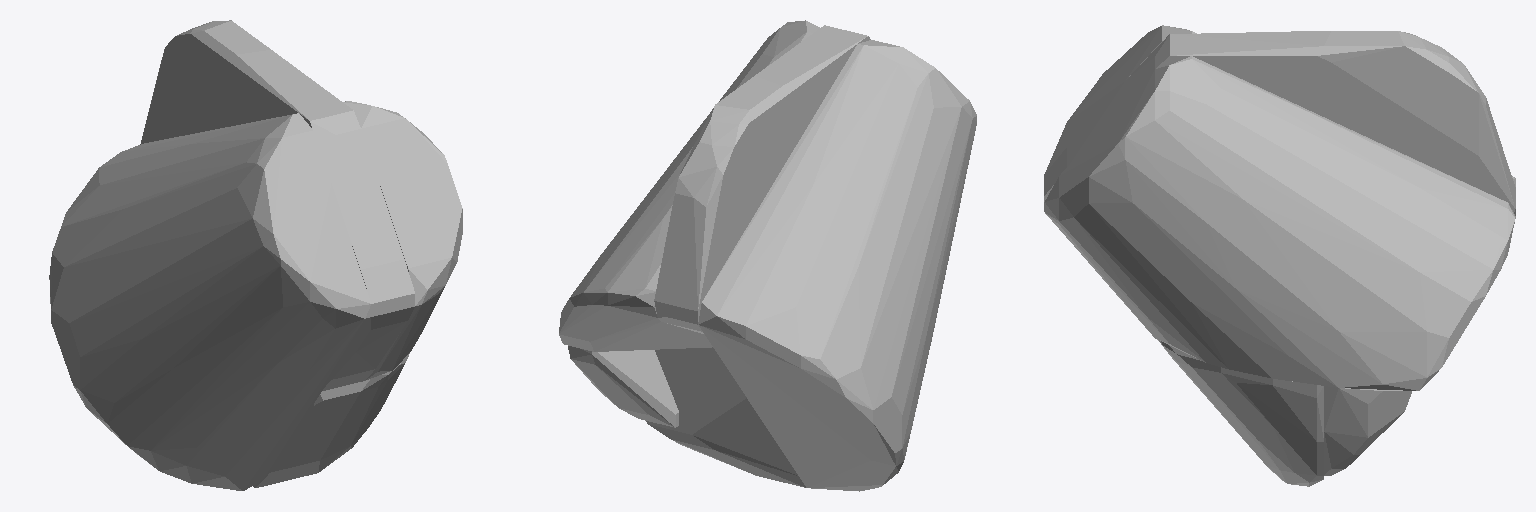
robot.urdf — root:
<robot name="root">
  <link name="link_542235fc88d22e1e3406473757712946_convex_piece_0">
    <inertial>
      <origin rpy="0 0 0" xyz="0 0 0"/>
      <mass value="6.99E-06"/>
      <inertia ixx="1.07E-09" ixy="-7.78E-11" ixz="3.03E-11" iyy="1.06E-09" iyz="-1.24E-10" izz="1.15E-09"/>
    </inertial>
    <visual>
      <origin rpy="0 0 0" xyz="0 0 0"/>
      <geometry>
        <mesh filename="542235fc88d22e1e3406473757712946_convex_piece_0.obj" scale="1.0000E+00"/>
      </geometry>
      <material name="">
        <color rgba="7.50E-01 7.50E-01 7.50E-01 1"/>
      </material>
    </visual>
    <collision>
      <origin rpy="0 0 0" xyz="0 0 0"/>
      <geometry>
        <mesh filename="542235fc88d22e1e3406473757712946_convex_piece_0.obj" scale="1.0000E+00"/>
      </geometry>
    </collision>
  </link>
  <link name="link_542235fc88d22e1e3406473757712946_convex_piece_1">
    <inertial>
      <origin rpy="0 0 0" xyz="0 0 0"/>
      <mass value="1.58E-06"/>
      <inertia ixx="2.86E-10" ixy="-3.27E-12" ixz="-9.19E-11" iyy="3.39E-10" iyz="3.16E-11" izz="8.88E-11"/>
    </inertial>
    <visual>
      <origin rpy="0 0 0" xyz="0 0 0"/>
      <geometry>
        <mesh filename="542235fc88d22e1e3406473757712946_convex_piece_1.obj" scale="1.0000E+00"/>
      </geometry>
      <material name="">
        <color rgba="7.50E-01 7.50E-01 7.50E-01 1"/>
      </material>
    </visual>
    <collision>
      <origin rpy="0 0 0" xyz="0 0 0"/>
      <geometry>
        <mesh filename="542235fc88d22e1e3406473757712946_convex_piece_1.obj" scale="1.0000E+00"/>
      </geometry>
    </collision>
  </link>
  <joint name="link_542235fc88d22e1e3406473757712946_convex_piece_1_joint" type="fixed">
    <origin rpy="0 0 0" xyz="0 0 0"/>
    <parent link="link_542235fc88d22e1e3406473757712946_convex_piece_0"/>
    <child link="link_542235fc88d22e1e3406473757712946_convex_piece_1"/>
  </joint>
  <link name="link_542235fc88d22e1e3406473757712946_convex_piece_2">
    <inertial>
      <origin rpy="0 0 0" xyz="0 0 0"/>
      <mass value="1.66E-07"/>
      <inertia ixx="3.04E-11" ixy="1.86E-11" ixz="-2.79E-11" iyy="5.92E-11" iyz="-1.25E-11" izz="4.66E-11"/>
    </inertial>
    <visual>
      <origin rpy="0 0 0" xyz="0 0 0"/>
      <geometry>
        <mesh filename="542235fc88d22e1e3406473757712946_convex_piece_2.obj" scale="1.0000E+00"/>
      </geometry>
      <material name="">
        <color rgba="7.50E-01 7.50E-01 7.50E-01 1"/>
      </material>
    </visual>
    <collision>
      <origin rpy="0 0 0" xyz="0 0 0"/>
      <geometry>
        <mesh filename="542235fc88d22e1e3406473757712946_convex_piece_2.obj" scale="1.0000E+00"/>
      </geometry>
    </collision>
  </link>
  <joint name="link_542235fc88d22e1e3406473757712946_convex_piece_2_joint" type="fixed">
    <origin rpy="0 0 0" xyz="0 0 0"/>
    <parent link="link_542235fc88d22e1e3406473757712946_convex_piece_1"/>
    <child link="link_542235fc88d22e1e3406473757712946_convex_piece_2"/>
  </joint>
  <link name="link_542235fc88d22e1e3406473757712946_convex_piece_3">
    <inertial>
      <origin rpy="0 0 0" xyz="0 0 0"/>
      <mass value="3.49E-06"/>
      <inertia ixx="8.03E-10" ixy="-2.13E-12" ixz="-8.82E-12" iyy="3.97E-10" iyz="6.60E-11" izz="4.22E-10"/>
    </inertial>
    <visual>
      <origin rpy="0 0 0" xyz="0 0 0"/>
      <geometry>
        <mesh filename="542235fc88d22e1e3406473757712946_convex_piece_3.obj" scale="1.0000E+00"/>
      </geometry>
      <material name="">
        <color rgba="7.50E-01 7.50E-01 7.50E-01 1"/>
      </material>
    </visual>
    <collision>
      <origin rpy="0 0 0" xyz="0 0 0"/>
      <geometry>
        <mesh filename="542235fc88d22e1e3406473757712946_convex_piece_3.obj" scale="1.0000E+00"/>
      </geometry>
    </collision>
  </link>
  <joint name="link_542235fc88d22e1e3406473757712946_convex_piece_3_joint" type="fixed">
    <origin rpy="0 0 0" xyz="0 0 0"/>
    <parent link="link_542235fc88d22e1e3406473757712946_convex_piece_2"/>
    <child link="link_542235fc88d22e1e3406473757712946_convex_piece_3"/>
  </joint>
  <link name="link_542235fc88d22e1e3406473757712946_convex_piece_4">
    <inertial>
      <origin rpy="0 0 0" xyz="0 0 0"/>
      <mass value="5.54E-06"/>
      <inertia ixx="8.08E-10" ixy="2.68E-11" ixz="1.34E-10" iyy="6.68E-10" iyz="-8.40E-11" izz="9.37E-10"/>
    </inertial>
    <visual>
      <origin rpy="0 0 0" xyz="0 0 0"/>
      <geometry>
        <mesh filename="542235fc88d22e1e3406473757712946_convex_piece_4.obj" scale="1.0000E+00"/>
      </geometry>
      <material name="">
        <color rgba="7.50E-01 7.50E-01 7.50E-01 1"/>
      </material>
    </visual>
    <collision>
      <origin rpy="0 0 0" xyz="0 0 0"/>
      <geometry>
        <mesh filename="542235fc88d22e1e3406473757712946_convex_piece_4.obj" scale="1.0000E+00"/>
      </geometry>
    </collision>
  </link>
  <joint name="link_542235fc88d22e1e3406473757712946_convex_piece_4_joint" type="fixed">
    <origin rpy="0 0 0" xyz="0 0 0"/>
    <parent link="link_542235fc88d22e1e3406473757712946_convex_piece_3"/>
    <child link="link_542235fc88d22e1e3406473757712946_convex_piece_4"/>
  </joint>
</robot>

--- Facts derived from the render (not from the file) ---
The picture shows the robot from 3 angles, left to right: view 1: azimuth 30°, elevation 25°; view 2: azimuth 150°, elevation 25°; view 3: azimuth 270°, elevation 25°; orthographic projection.
Model root with 5 links and 4 joints (4 fixed), rooted at link_542235fc88d22e1e3406473757712946_convex_piece_0, posed every joint at zero.
Visible links, largest first — view 1: link_542235fc88d22e1e3406473757712946_convex_piece_0, link_542235fc88d22e1e3406473757712946_convex_piece_3, link_542235fc88d22e1e3406473757712946_convex_piece_4, link_542235fc88d22e1e3406473757712946_convex_piece_1; view 2: link_542235fc88d22e1e3406473757712946_convex_piece_0, link_542235fc88d22e1e3406473757712946_convex_piece_3, link_542235fc88d22e1e3406473757712946_convex_piece_4, link_542235fc88d22e1e3406473757712946_convex_piece_1, link_542235fc88d22e1e3406473757712946_convex_piece_2; view 3: link_542235fc88d22e1e3406473757712946_convex_piece_4, link_542235fc88d22e1e3406473757712946_convex_piece_3, link_542235fc88d22e1e3406473757712946_convex_piece_1, link_542235fc88d22e1e3406473757712946_convex_piece_2, link_542235fc88d22e1e3406473757712946_convex_piece_0.
Boxes of the visible links, left/top/right/bottom form: link_542235fc88d22e1e3406473757712946_convex_piece_0: left=49, top=113, right=370, bottom=490; link_542235fc88d22e1e3406473757712946_convex_piece_3: left=140, top=20, right=414, bottom=390; link_542235fc88d22e1e3406473757712946_convex_piece_4: left=343, top=101, right=462, bottom=380; link_542235fc88d22e1e3406473757712946_convex_piece_1: left=253, top=353, right=409, bottom=487; link_542235fc88d22e1e3406473757712946_convex_piece_0: left=698, top=40, right=976, bottom=491; link_542235fc88d22e1e3406473757712946_convex_piece_3: left=654, top=25, right=870, bottom=333; link_542235fc88d22e1e3406473757712946_convex_piece_4: left=559, top=20, right=819, bottom=351; link_542235fc88d22e1e3406473757712946_convex_piece_1: left=646, top=347, right=805, bottom=487; link_542235fc88d22e1e3406473757712946_convex_piece_2: left=568, top=346, right=678, bottom=427; link_542235fc88d22e1e3406473757712946_convex_piece_4: left=1044, top=56, right=1515, bottom=390; link_542235fc88d22e1e3406473757712946_convex_piece_3: left=1044, top=31, right=1515, bottom=215; link_542235fc88d22e1e3406473757712946_convex_piece_1: left=1158, top=340, right=1323, bottom=486; link_542235fc88d22e1e3406473757712946_convex_piece_2: left=1324, top=386, right=1411, bottom=475; link_542235fc88d22e1e3406473757712946_convex_piece_0: left=1045, top=25, right=1515, bottom=186.
Bounding box of the posed robot: 0.0361 × 0.0462 × 0.0454 m (x, y, z).
Meshes: 5 distinct files referenced, 5 mesh visuals loaded (5 OBJ).